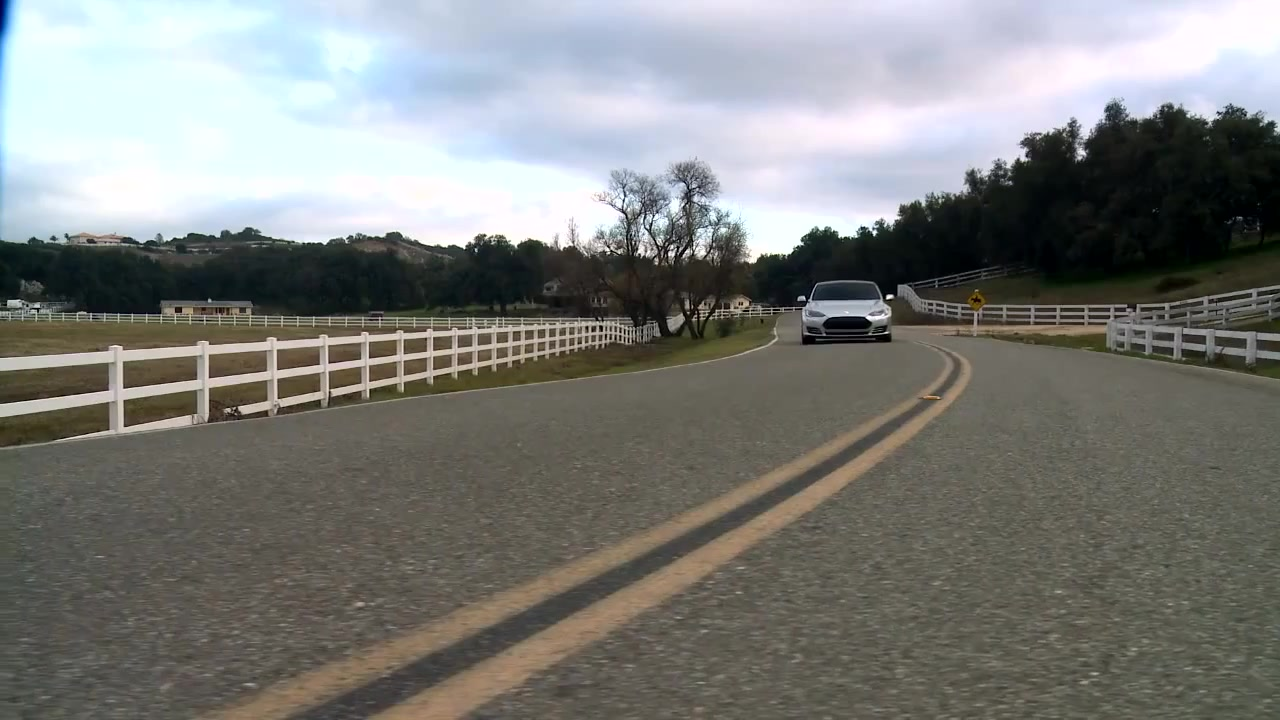car: (793, 277, 899, 344)
